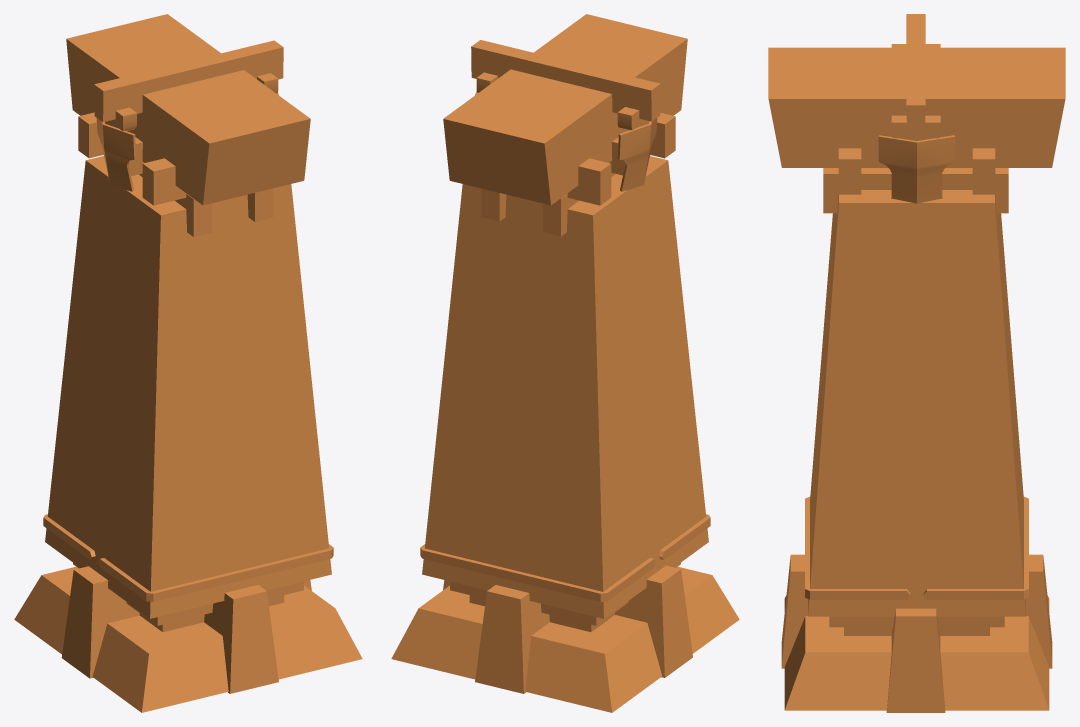
File: SM_S_Pillar_01_low.fbx
The picture shows the model from 3 angles, left to right: view 1: azimuth 30°, elevation 25°; view 2: azimuth 150°, elevation 25°; view 3: azimuth 270°, elevation 25°; orthographic projection. The views are drawn at different scales.
Parts seen in each view (by area): view 1: SM_S_Pillar_01_low; view 2: SM_S_Pillar_01_low; view 3: SM_S_Pillar_01_low.
Boxes of the visible parts, left/top/right/bottom form: SM_S_Pillar_01_low: left=14, top=14, right=362, bottom=712; SM_S_Pillar_01_low: left=391, top=14, right=739, bottom=712; SM_S_Pillar_01_low: left=768, top=14, right=1065, bottom=712.
Bounding box in the file's own units: 1.58 × 3.5 × 1.44.
